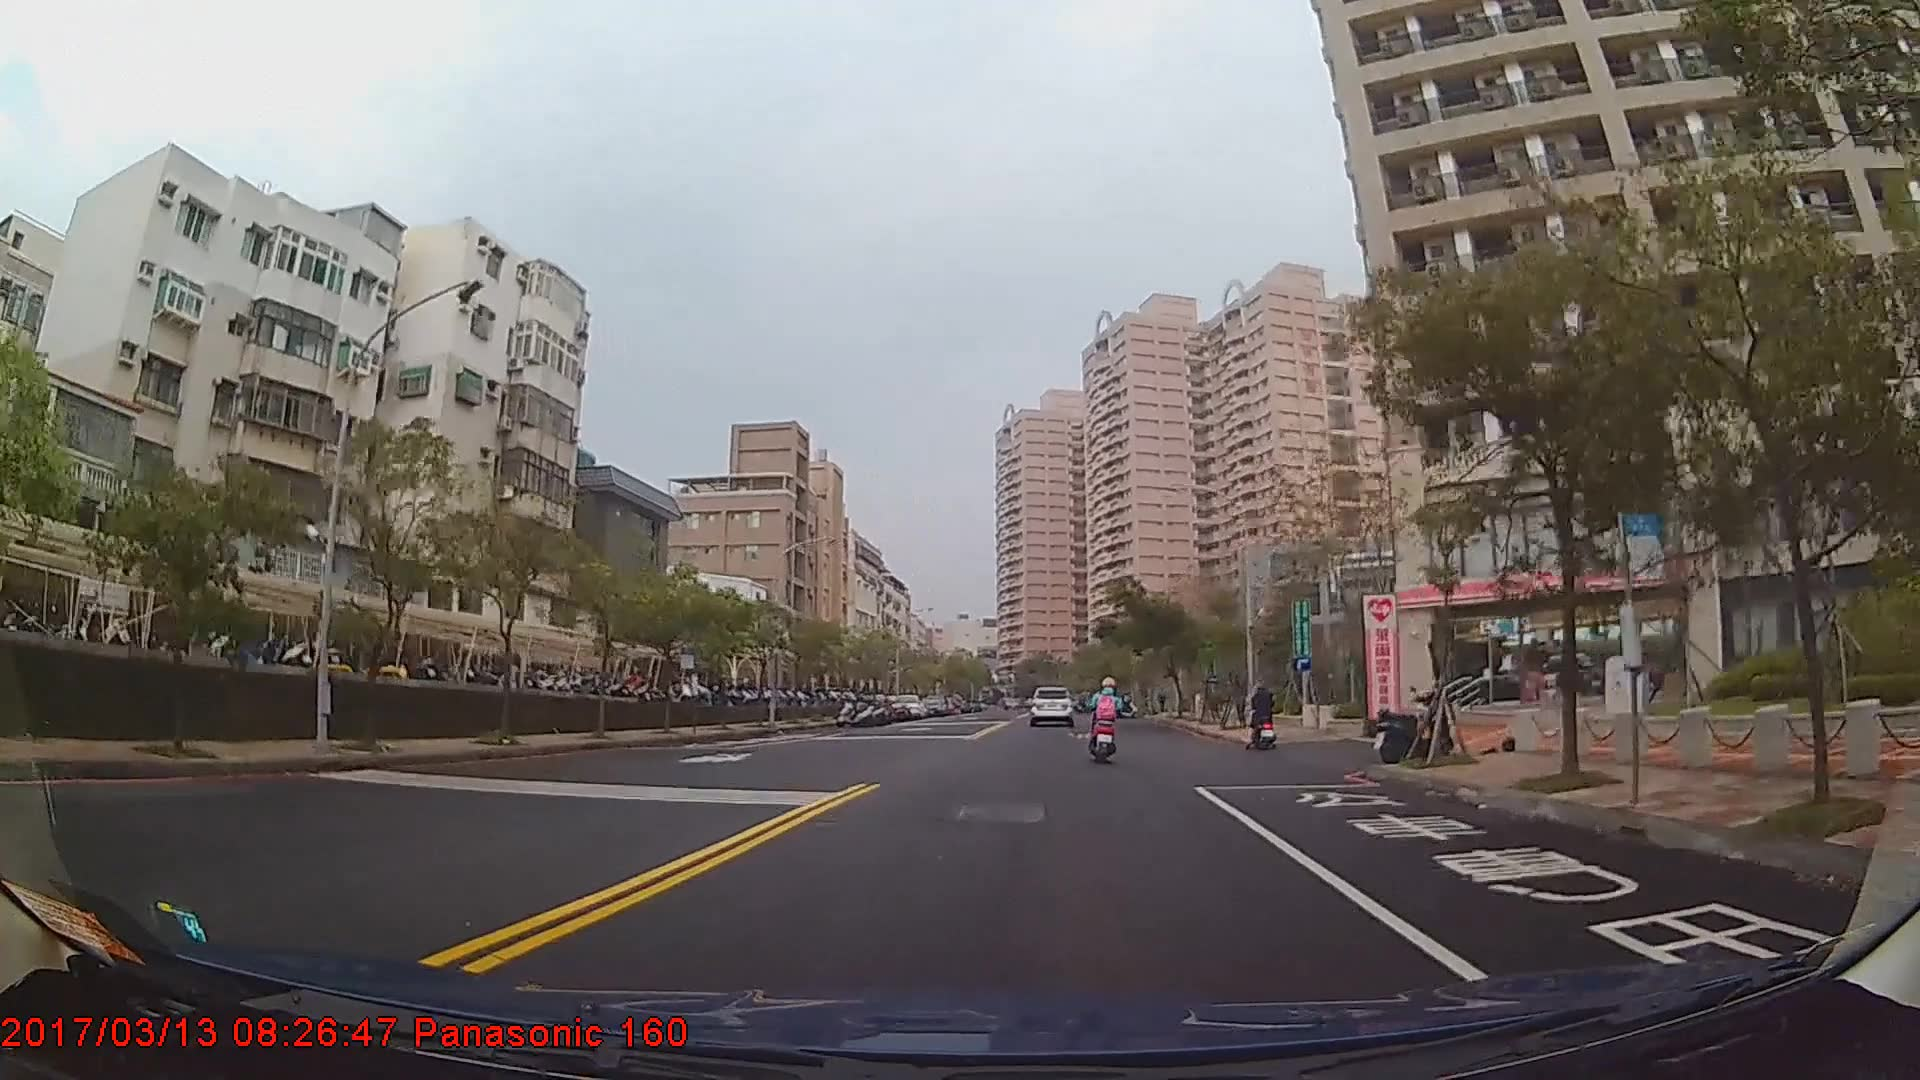rider: (1085, 676, 1126, 762), (1246, 680, 1278, 751)
vehicle: (1025, 685, 1076, 726), (888, 695, 923, 721)
